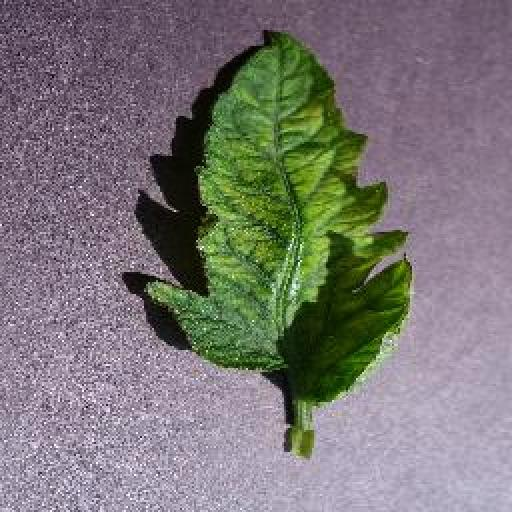Mosaic Virus: (142, 32, 414, 406)
